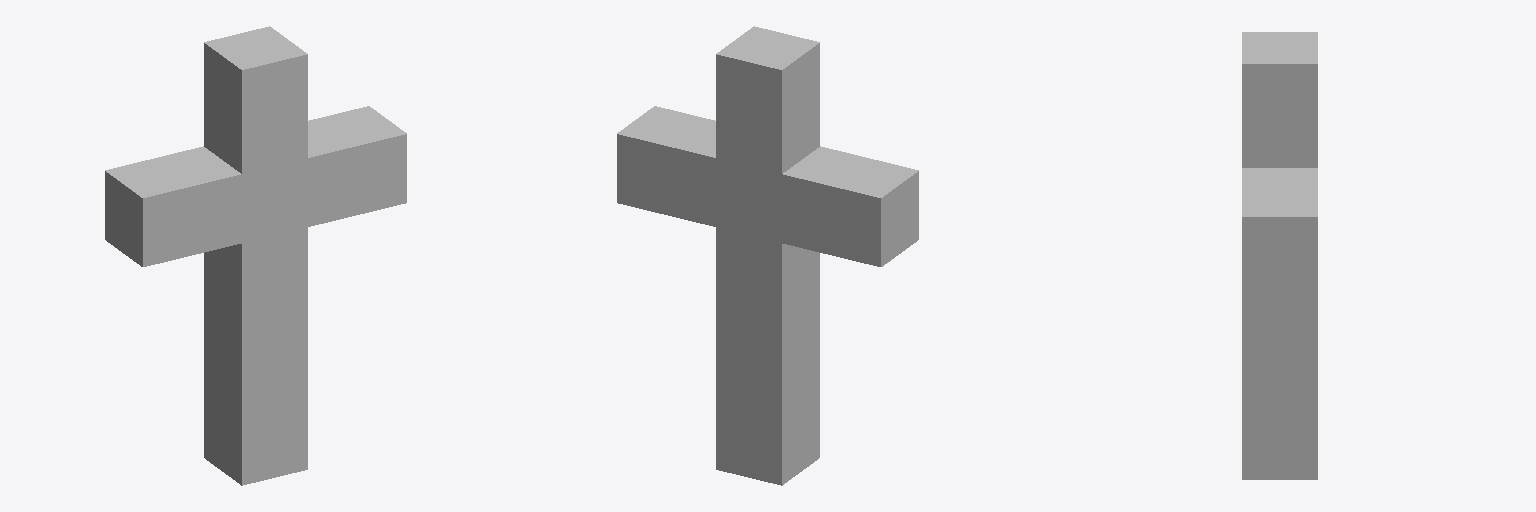
Rendered from gravestone2.obj.
The picture shows the model from 3 angles: view 1: azimuth 30°, elevation 25°; view 2: azimuth 150°, elevation 25°; view 3: azimuth 270°, elevation 25°; orthographic projection.
Visible parts, largest first — view 1: Object.1; view 2: Object.1; view 3: Object.1.
Boxes of the visible parts, <box> form: Object.1: <box>105,26,406,485</box>; Object.1: <box>617,26,918,485</box>; Object.1: <box>1242,32,1317,479</box>.
Bounding box in the file's own units: 0.8 × 1.2 × 0.2.